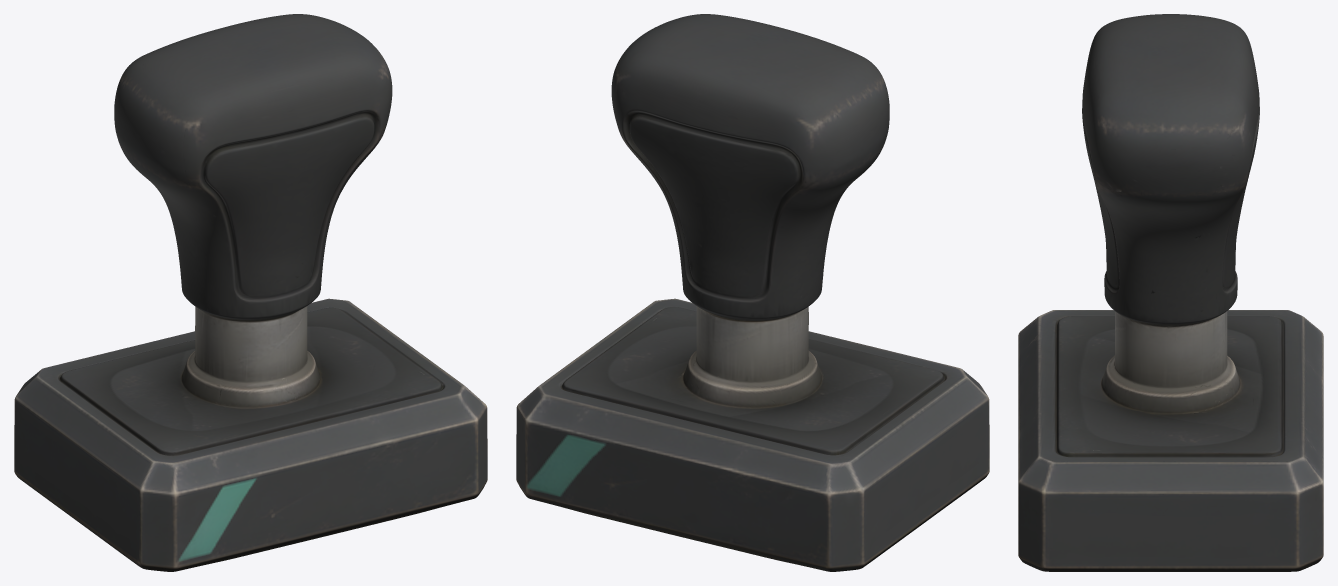
The model's file is SM_A01_Stamp.glb.
3 renders of one model, left to right at view 1: azimuth 30°, elevation 25°; view 2: azimuth 150°, elevation 25°; view 3: azimuth 270°, elevation 25°, orthographic.
Parts seen in each view (by area): view 1: node_0; view 2: node_0; view 3: node_0.
Boxes of the visible parts, left/top/right/bottom form: node_0: left=14, top=14, right=487, bottom=571; node_0: left=516, top=14, right=989, bottom=571; node_0: left=1018, top=14, right=1323, bottom=571.
Bounding box in the file's own units: 0.7232 × 0.8707 × 0.5443.
Materials: 1 (1 with a texture image).
